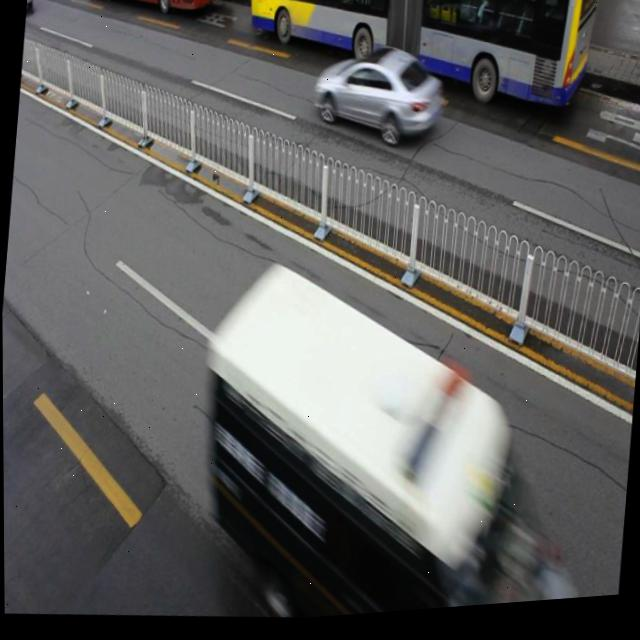car: (309, 40, 448, 160)
truck: (190, 247, 603, 629)
van: (239, 0, 597, 136), (82, 0, 231, 24)
